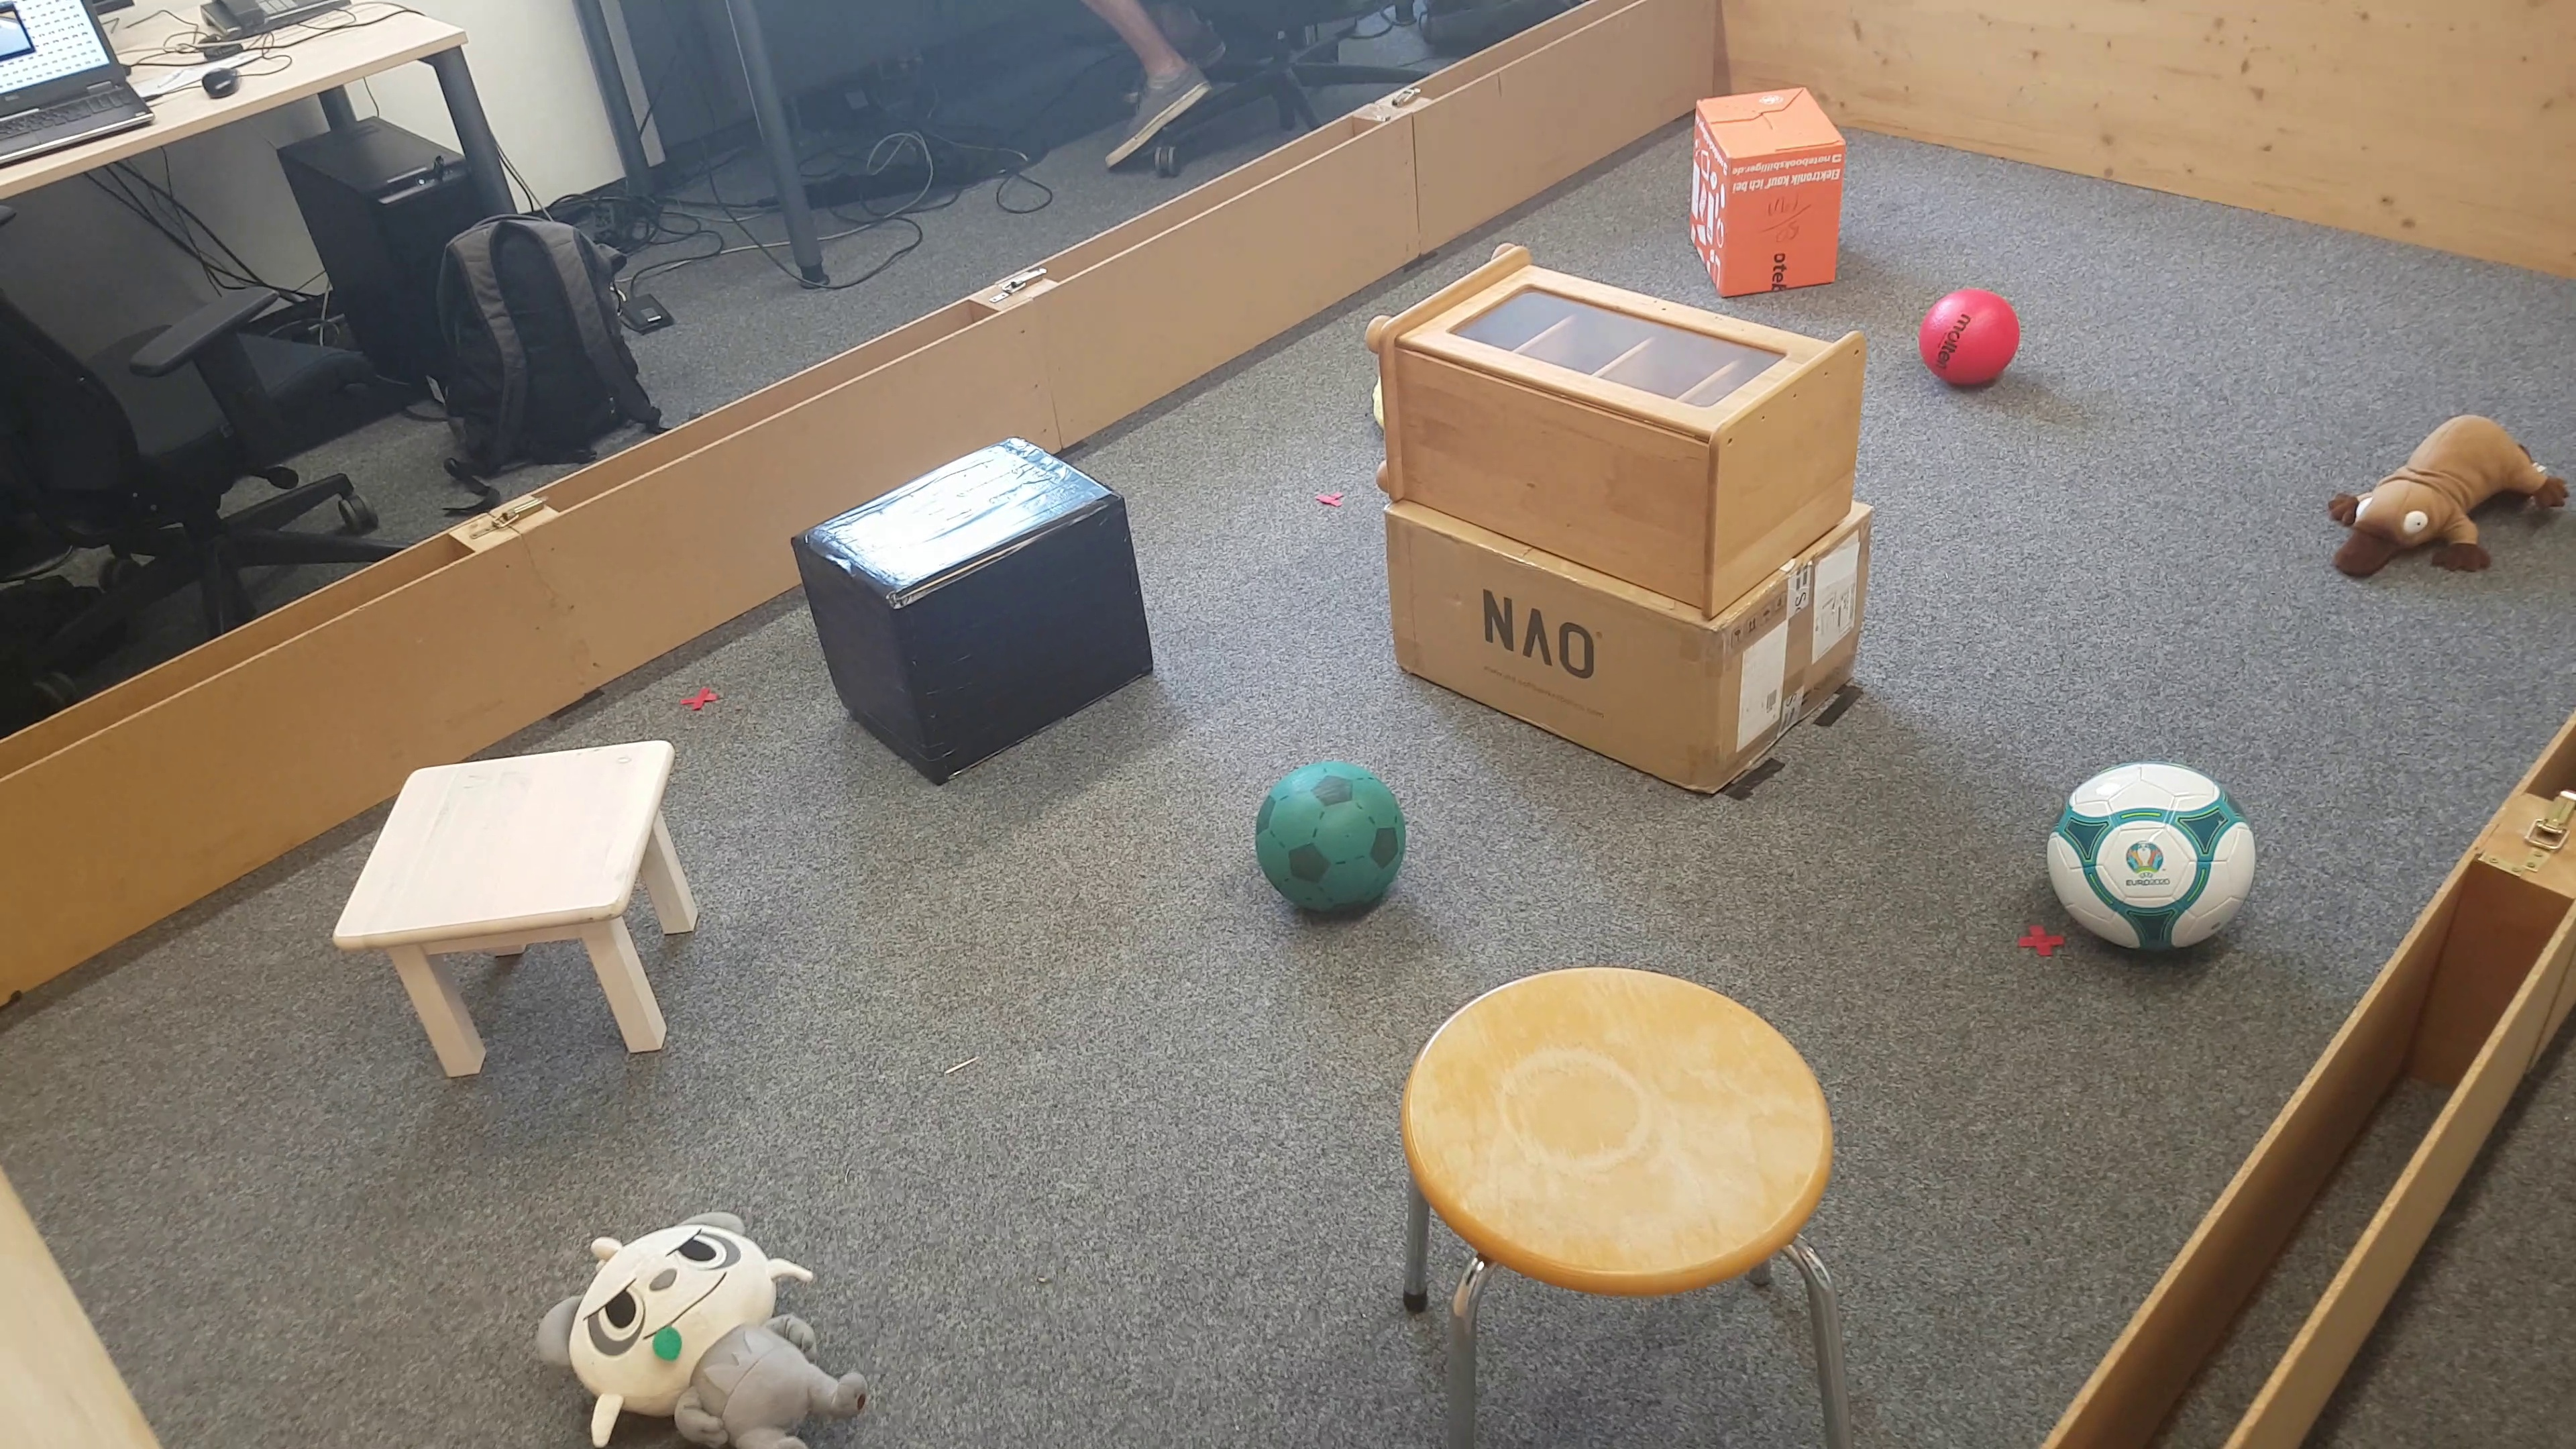grasp: (538, 1207, 865, 1449), (2323, 410, 2565, 594)
kick: (2047, 757, 2259, 962), (1256, 766, 1410, 927), (1916, 287, 2020, 387)
push: (791, 439, 1161, 777), (1686, 83, 1852, 303)
